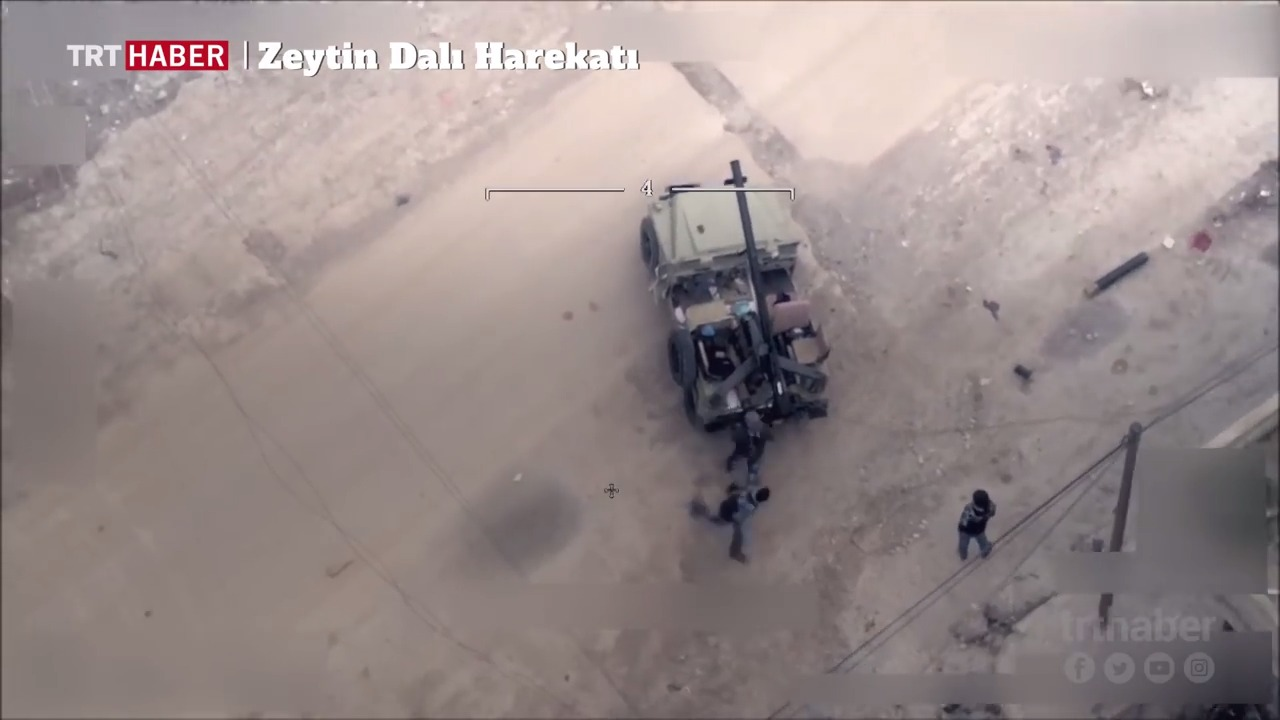arac: (633, 160, 860, 437)
insan: (673, 482, 794, 577), (942, 473, 1015, 568), (719, 407, 790, 482)
